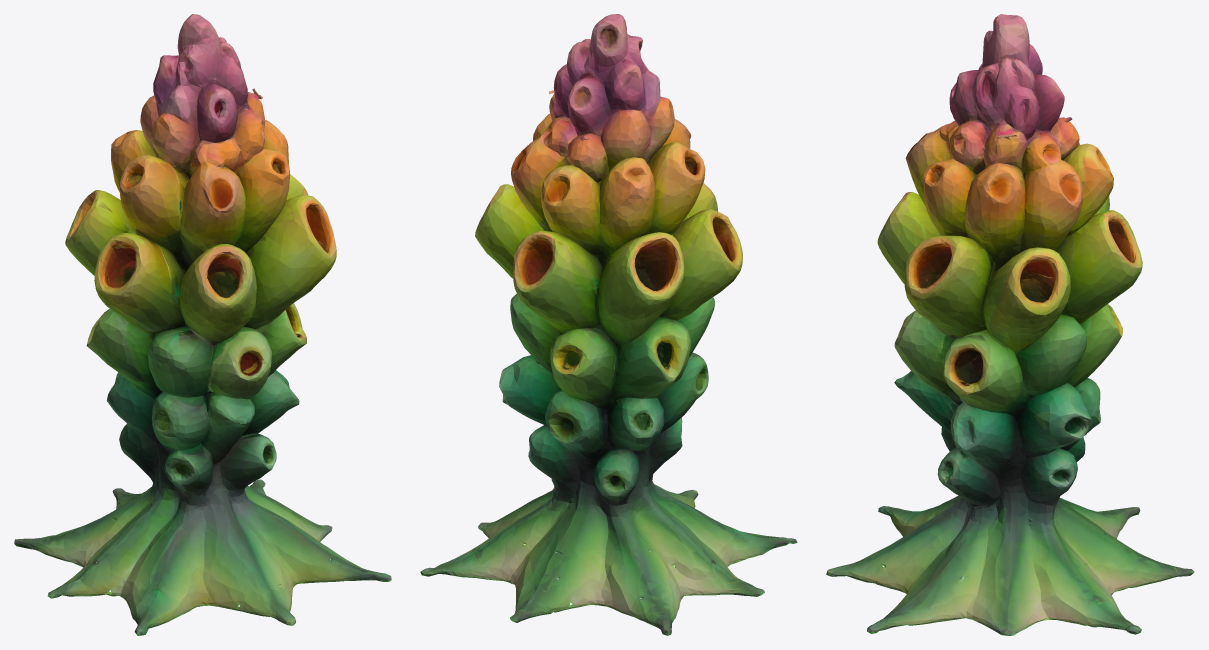
Rendered from ColorfulCoral.fbx.
The picture shows the model from 3 angles, left to right: view 1: azimuth 30°, elevation 25°; view 2: azimuth 150°, elevation 25°; view 3: azimuth 270°, elevation 25°; orthographic projection. The views are drawn at different scales.
Visible parts, largest first — view 1: temp; view 2: temp; view 3: temp.
Part boxes in pixels (x1,y1,x2,y2): temp: (14, 14, 391, 635); temp: (420, 14, 797, 635); temp: (826, 14, 1194, 635).
Size of the model in its own units: 109 by 199 by 120.
1 material, 1 textured.
